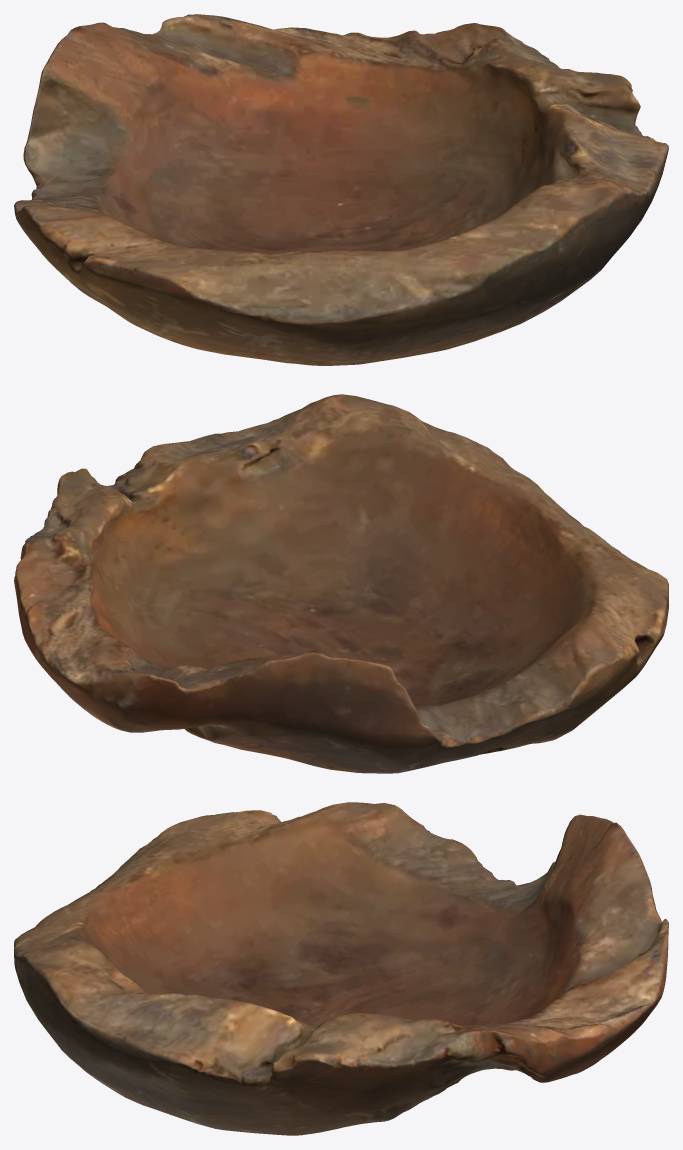
Rendered from wooden_bowl_01.glb.
3 renders of one model, top to bottom at view 1: azimuth 30°, elevation 25°; view 2: azimuth 150°, elevation 25°; view 3: azimuth 270°, elevation 25°, orthographic. The views are drawn at different scales.
Visible parts, largest first — view 1: wooden_bowl_01; view 2: wooden_bowl_01; view 3: wooden_bowl_01.
Part boxes in pixels (left/top/right/bottom): wooden_bowl_01: left=14, top=14, right=668, bottom=365; wooden_bowl_01: left=14, top=394, right=668, bottom=773; wooden_bowl_01: left=14, top=802, right=668, bottom=1135.
Bounding box in the file's own units: 0.3131 × 0.0937 × 0.3091.
Materials: 1 (1 with a texture image).
